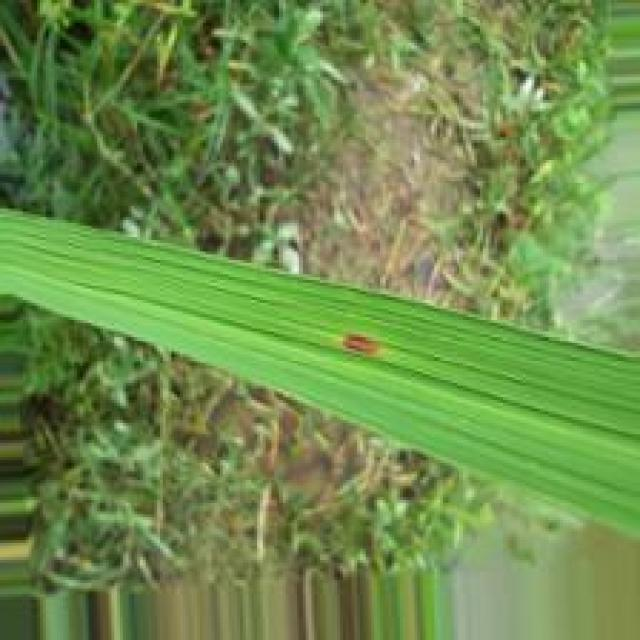Brown_Spot: (335, 328, 383, 362)
